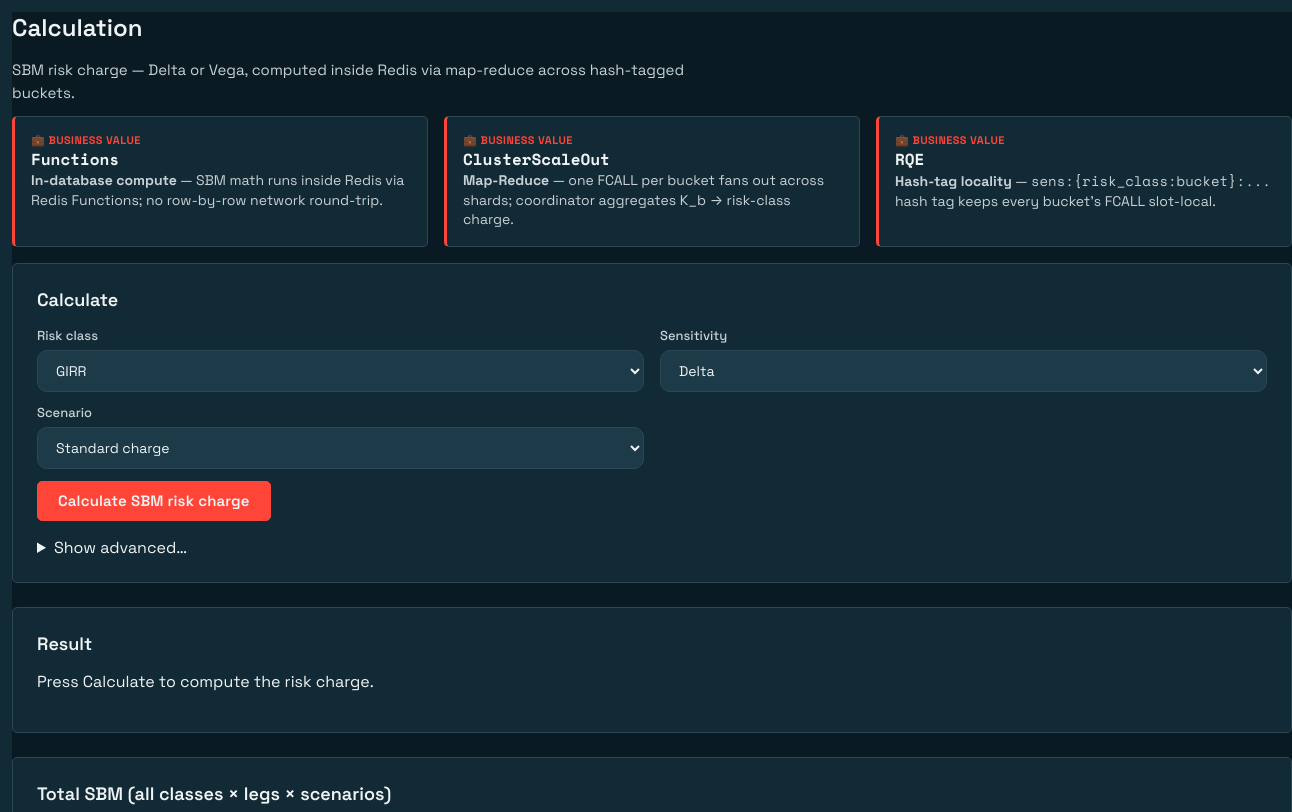
Scenario dropdown › RegimeBadge is omitted when the api response carries no correlation_regime field (legacy back-compat)
Click the button "Calculate SBM risk charge" at (154, 501), box [37,481,271,521]
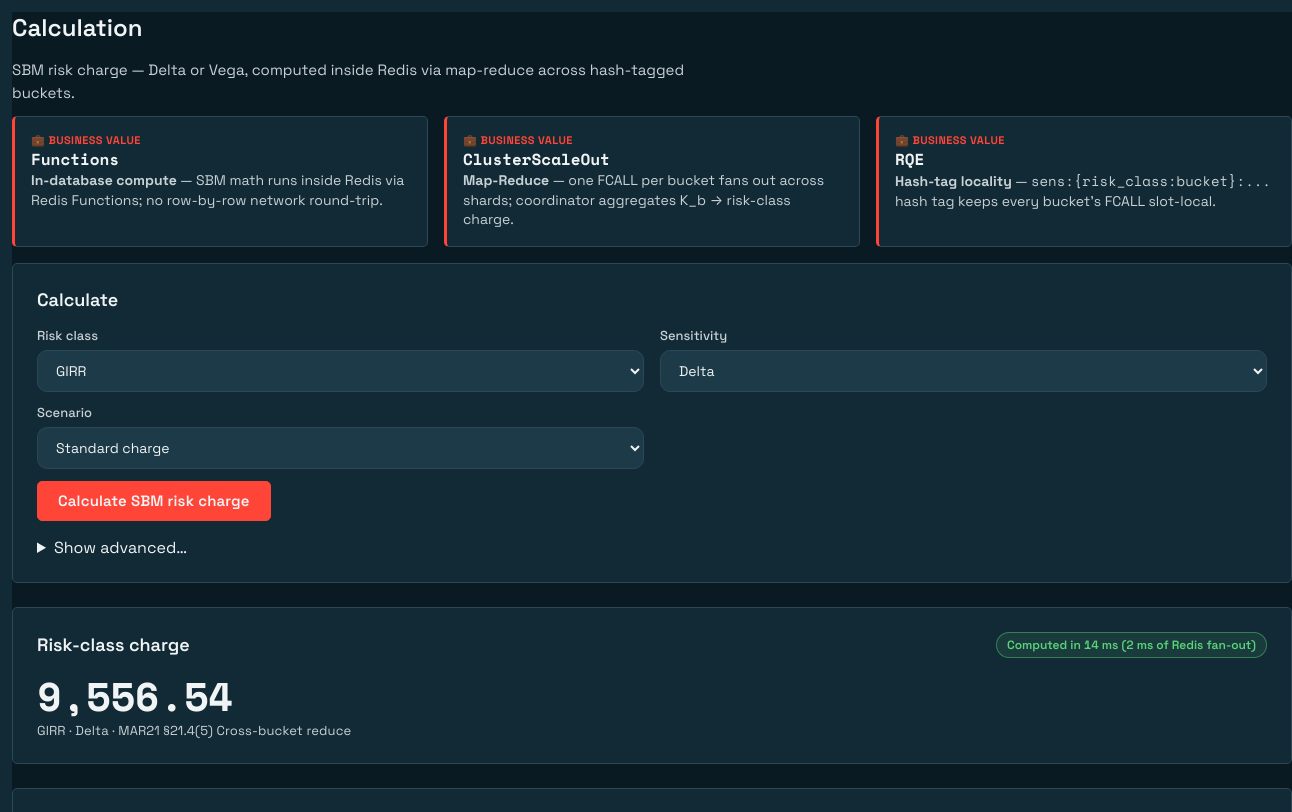
Expected: the text "9,556.54" is shown, [37,674,233,718]
